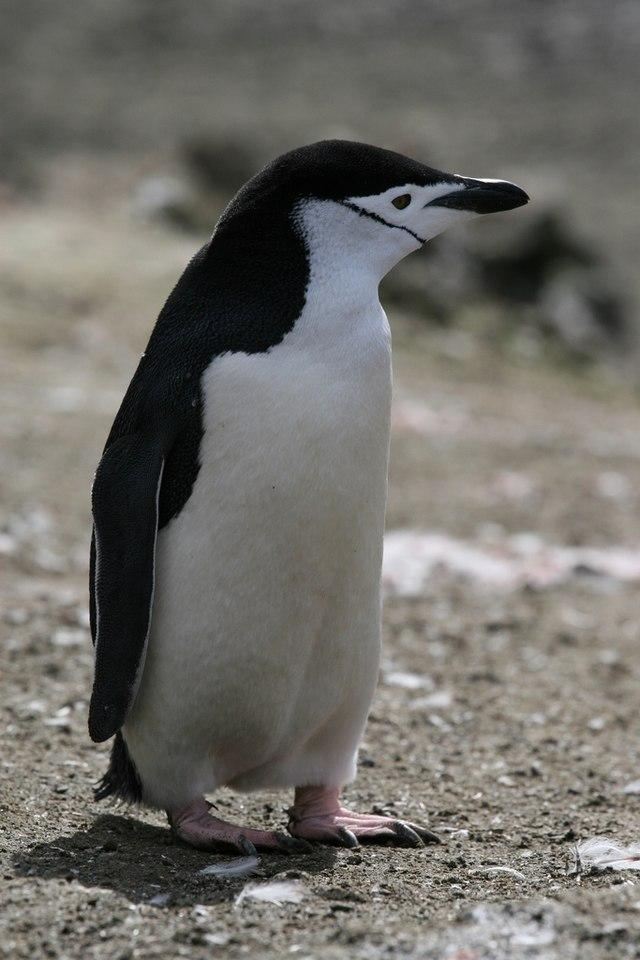chinstrap: (69, 102, 531, 890)
